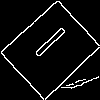I: (25, 24, 69, 67)
